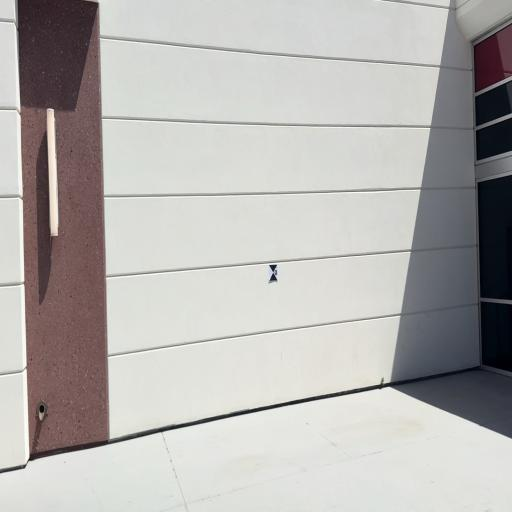target0: (269, 265, 278, 282)
